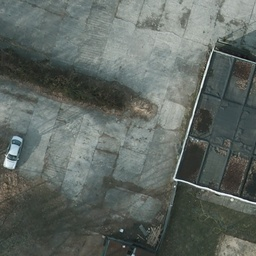car: (2, 137, 21, 170)
